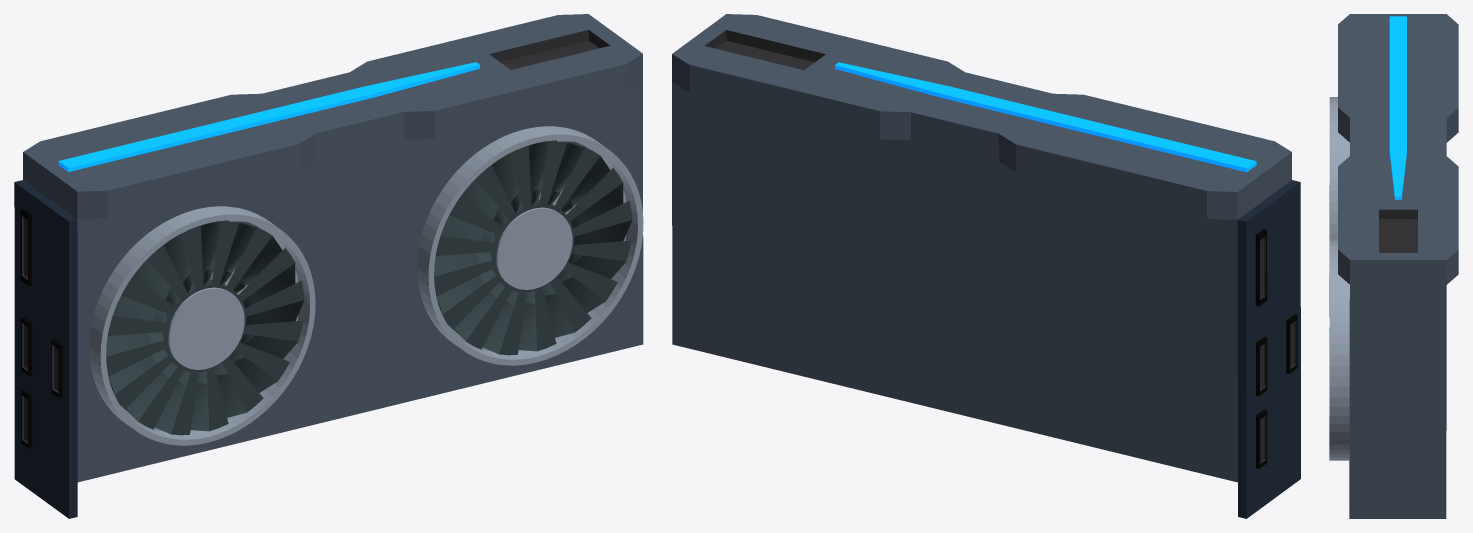
The model's file is vid.glb.
3 views of the same model, side by side, from view 1: azimuth 30°, elevation 25°; view 2: azimuth 150°, elevation 25°; view 3: azimuth 270°, elevation 25° (orthographic). The views are drawn at different scales.
Visible parts, largest first — view 1: Cube.137_TexturaComp_0.001; view 2: Cube.137_TexturaComp_0.001; view 3: Cube.137_TexturaComp_0.001.
Boxes of the visible parts, left/top/right/bottom form: Cube.137_TexturaComp_0.001: left=14, top=14, right=643, bottom=518; Cube.137_TexturaComp_0.001: left=672, top=14, right=1300, bottom=518; Cube.137_TexturaComp_0.001: left=1329, top=14, right=1458, bottom=518.
Size of the model in its own units: 0.9936 by 0.5412 by 0.2163.
2 materials, 1 textured.
